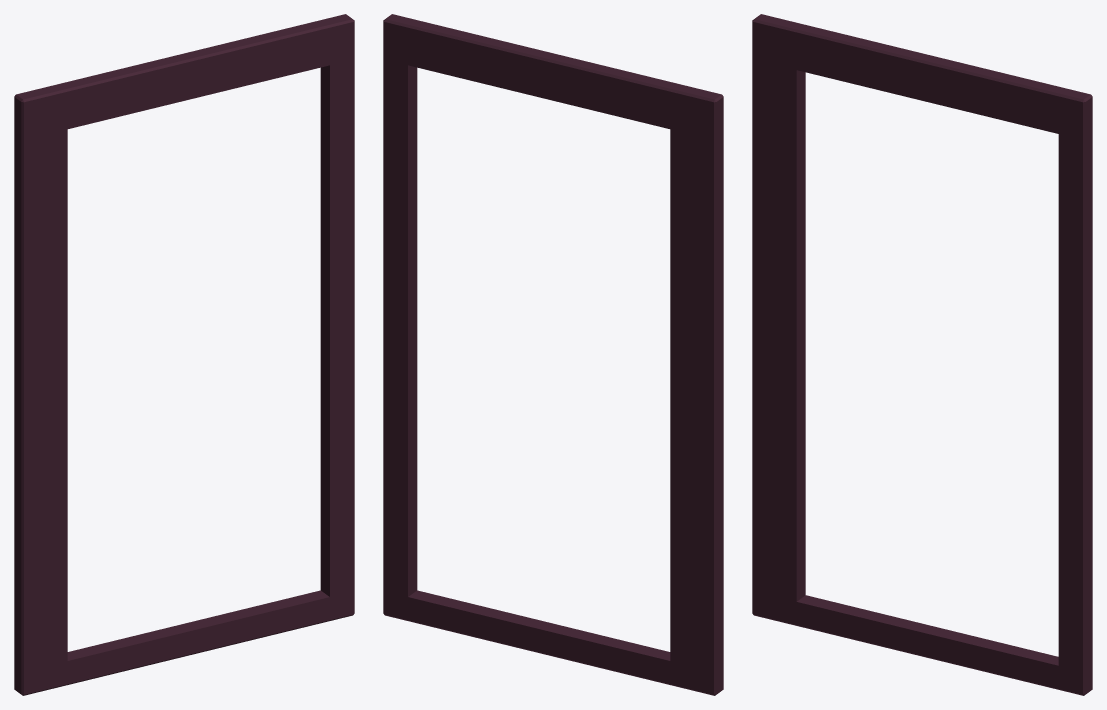
File: Cooler_Door.glb
The picture shows the model from 3 angles, left to right: view 1: azimuth 30°, elevation 25°; view 2: azimuth 150°, elevation 25°; view 3: azimuth 330°, elevation 25°; orthographic projection.
Parts seen in each view (by area): view 1: Cooler_Door; view 2: Cooler_Door; view 3: Cooler_Door.
Part boxes in pixels (bbox=[...]): Cooler_Door: bbox=[14, 14, 354, 695]; Cooler_Door: bbox=[383, 14, 723, 695]; Cooler_Door: bbox=[752, 14, 1092, 695].
Size of the model in its own units: 0.9628 by 1.65 by 0.0456.
Materials: 1 (1 with a texture image).
